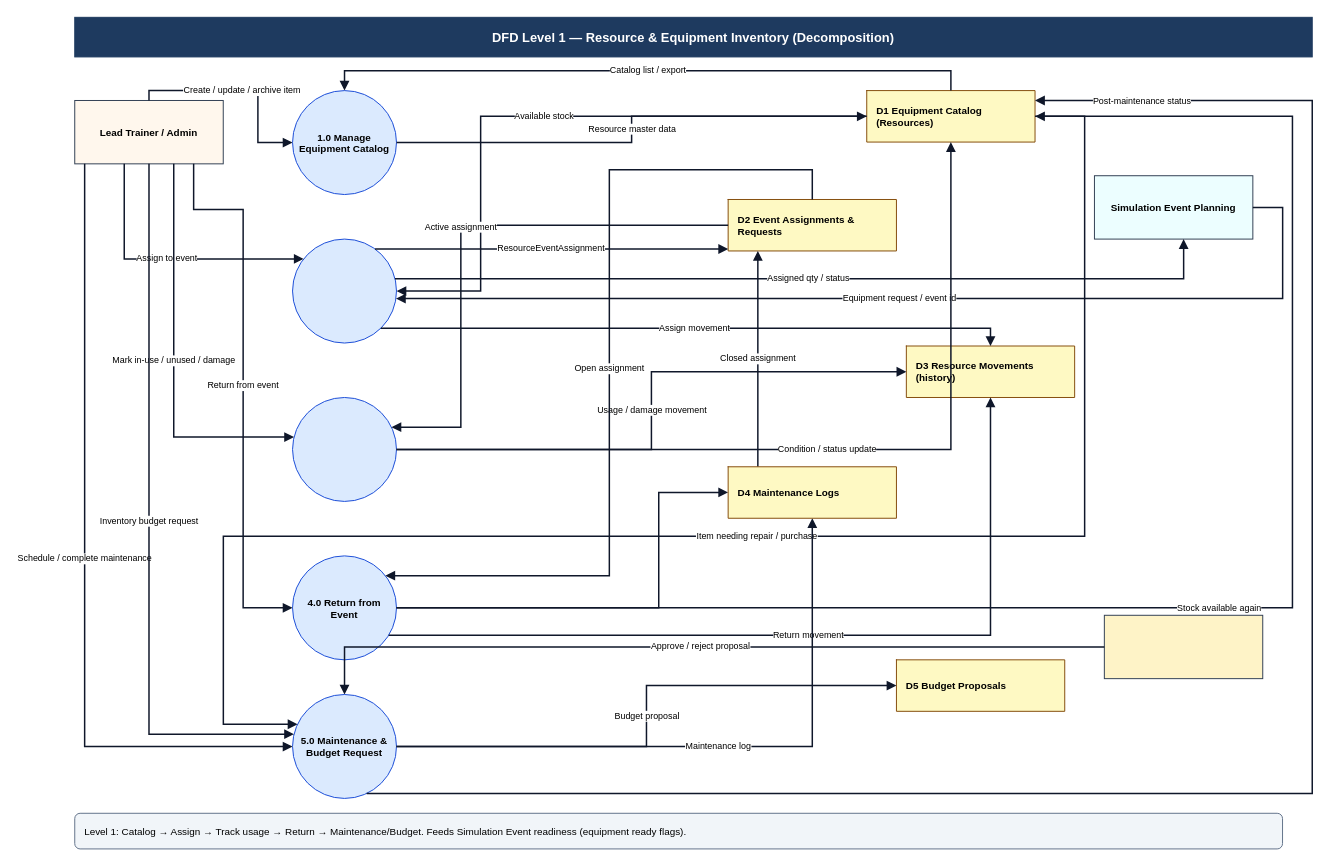
This 1337x866 diagram has some shape labels left out. Here are the shapes that lost their labels. From the top down, the box of each, then its label:
(292, 238, 396, 343): 2.0 Assign Equipment to Event
(292, 396, 396, 501): 3.0 Track Usage & Condition
(1103, 614, 1263, 679): Budget Approver
